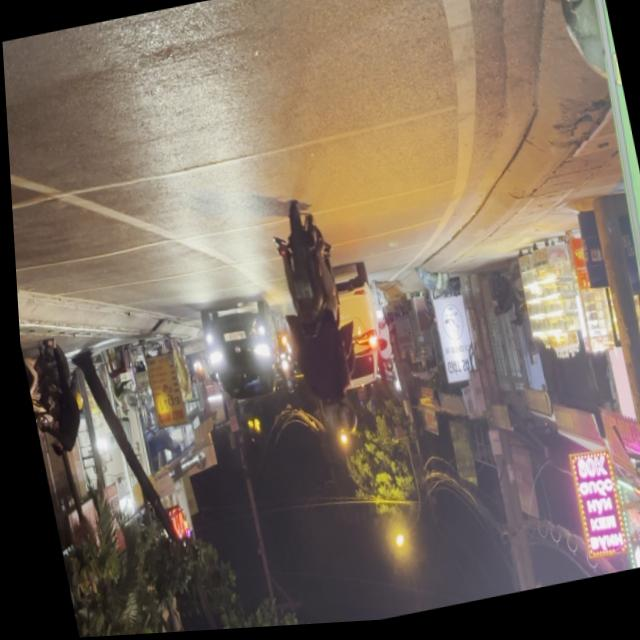helmet: (327, 398, 356, 443), (316, 402, 340, 443)
licenseplate: (265, 197, 372, 447)
